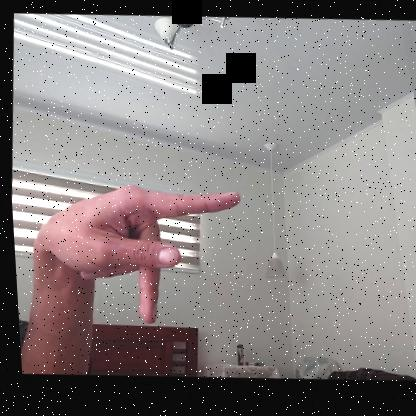P: (26, 179, 246, 336)
